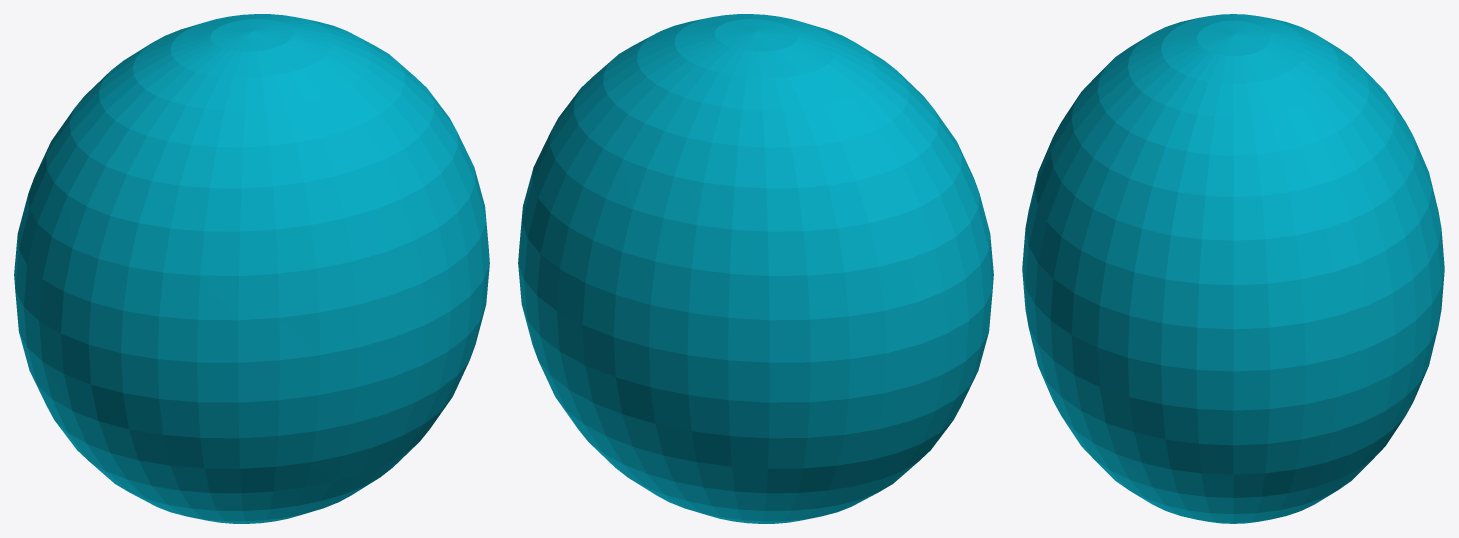
3 views of the same model, side by side, from view 1: azimuth 30°, elevation 25°; view 2: azimuth 150°, elevation 25°; view 3: azimuth 270°, elevation 25° (orthographic).
Parts seen in each view (by area): view 1: Mesh_Mesh_head_geo.001_lambert2SG.001; view 2: Mesh_Mesh_head_geo.001_lambert2SG.001; view 3: Mesh_Mesh_head_geo.001_lambert2SG.001.
Boxes of the visible parts, x1,y1,x2,y2 form: Mesh_Mesh_head_geo.001_lambert2SG.001: [14, 14, 489, 523]; Mesh_Mesh_head_geo.001_lambert2SG.001: [518, 14, 993, 523]; Mesh_Mesh_head_geo.001_lambert2SG.001: [1022, 14, 1444, 523].
Size of the model in its own units: 31 by 33 by 27.
